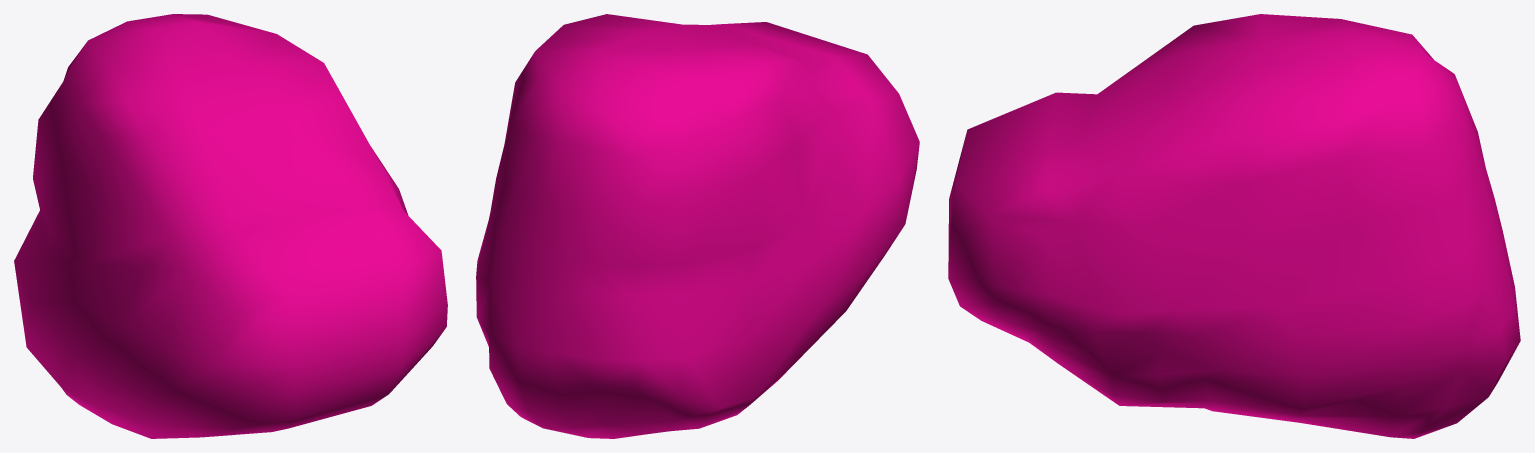
Rendered from Rock_Small_02_Lod0.fbx.
3 renders of one model, left to right at view 1: azimuth 30°, elevation 25°; view 2: azimuth 150°, elevation 25°; view 3: azimuth 270°, elevation 25°, orthographic. The views are drawn at different scales.
Parts seen in each view (by area): view 1: Rock_Small_02_Lod0; view 2: Rock_Small_02_Lod0; view 3: Rock_Small_02_Lod0.
Boxes of the visible parts, x1=… form: Rock_Small_02_Lod0: x1=14, y1=14, x2=447, y2=438; Rock_Small_02_Lod0: x1=476, y1=14, x2=919, y2=438; Rock_Small_02_Lod0: x1=948, y1=14, x2=1520, y2=438.
Bounding box in the file's own units: 658 × 758 × 1050.
